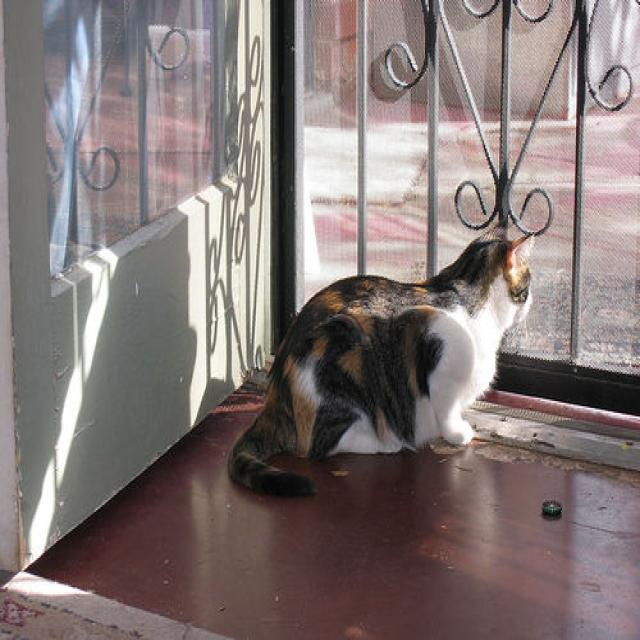cat: (228, 220, 536, 501)
